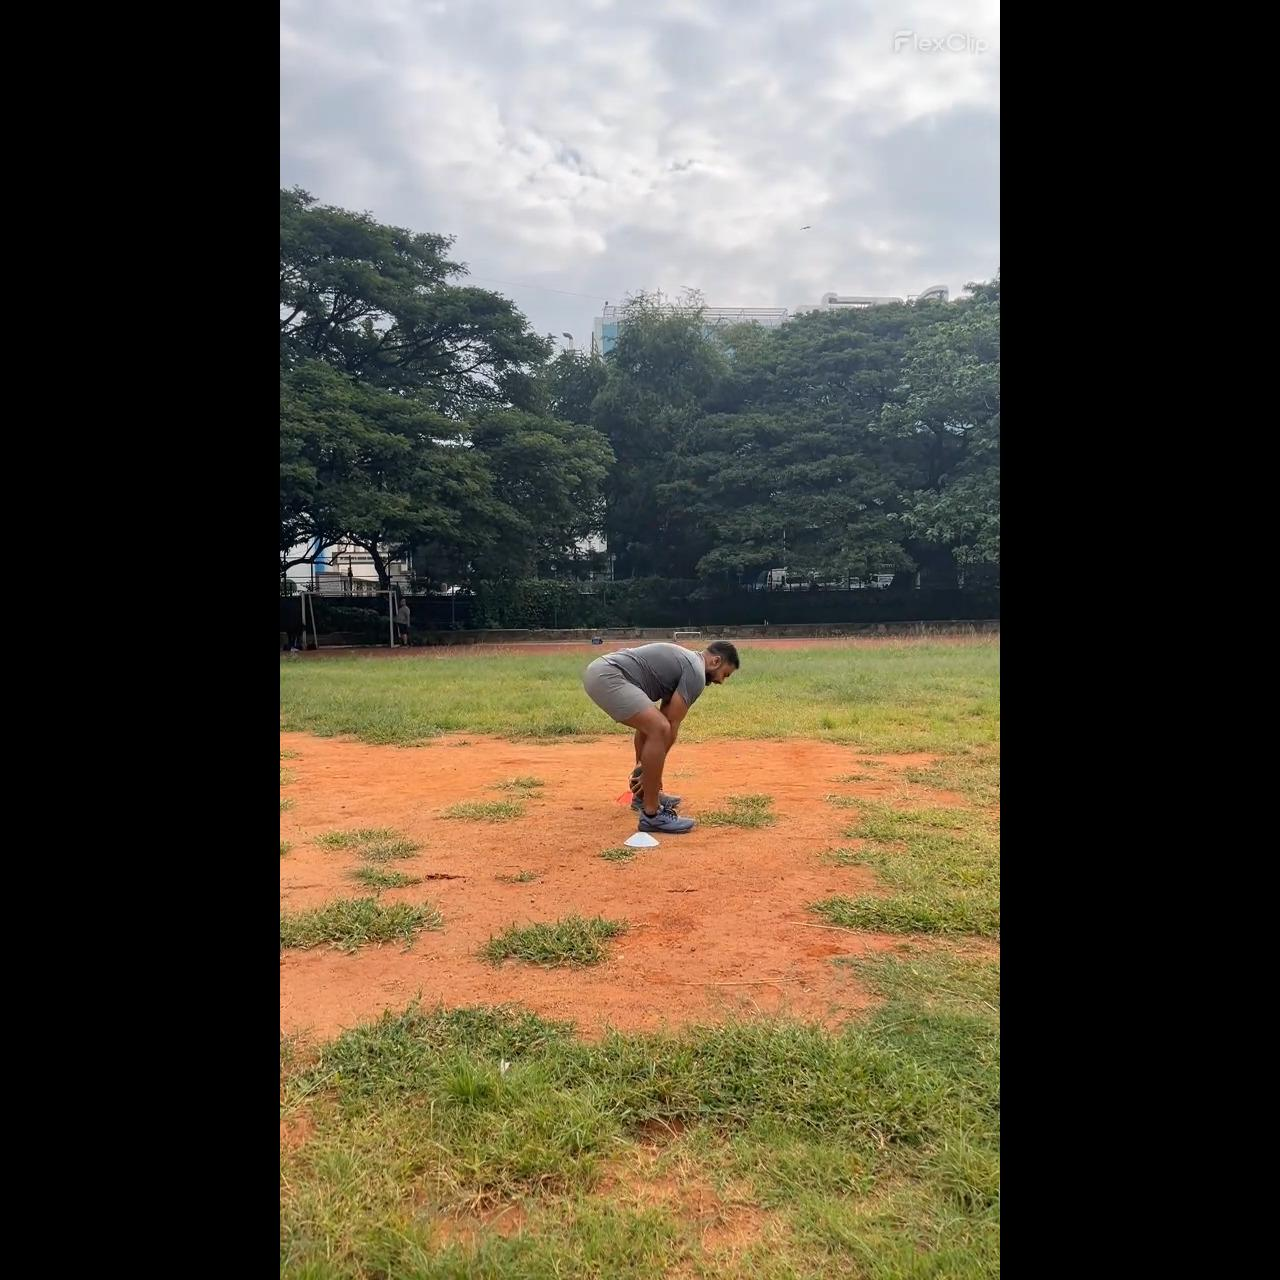Athelete: (579, 639, 738, 836)
